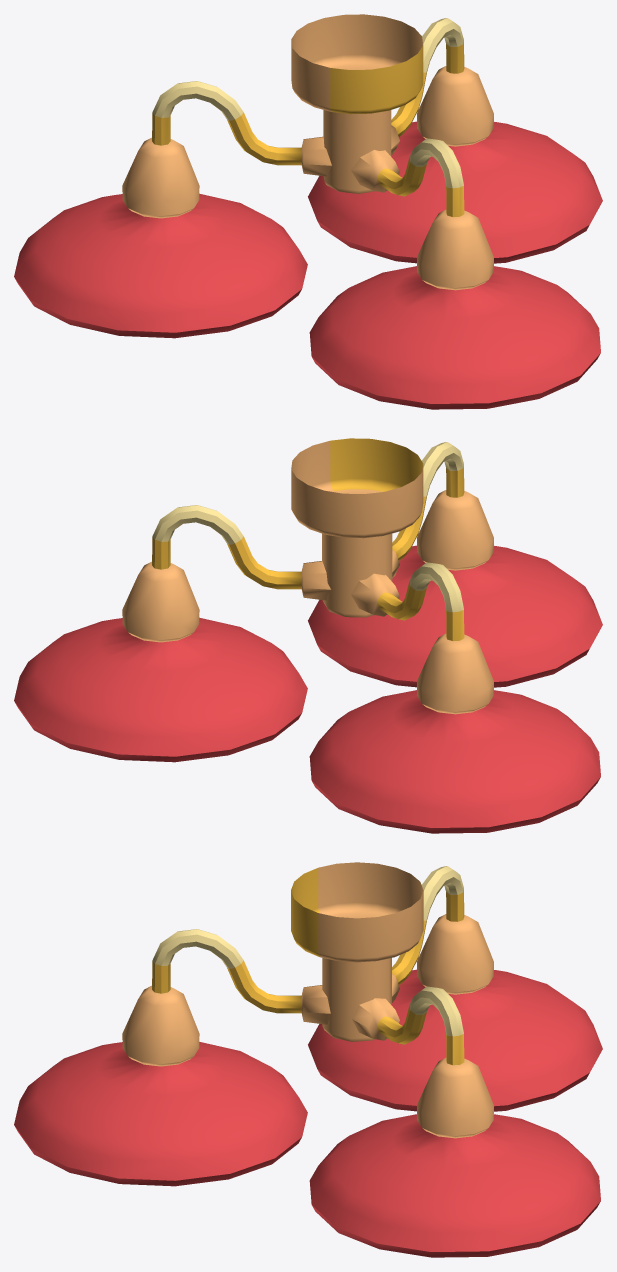
File: lustre_natal_tres_bracos_pacote.glb
3 views of the same model, one above another, from view 1: azimuth 30°, elevation 25°; view 2: azimuth 150°, elevation 25°; view 3: azimuth 270°, elevation 25° (orthographic).
Visible parts, largest first — view 1: lustre_natal_tres_bracos_pacote; view 2: lustre_natal_tres_bracos_pacote; view 3: lustre_natal_tres_bracos_pacote.
Part boxes in pixels (x1,y1,x2,y2): lustre_natal_tres_bracos_pacote: (14,14,602,409); lustre_natal_tres_bracos_pacote: (14,438,602,833); lustre_natal_tres_bracos_pacote: (14,862,602,1257).
Size of the model in its own units: 1.54 by 0.7038 by 1.43.
Materials: 2 (1 with a texture image).
